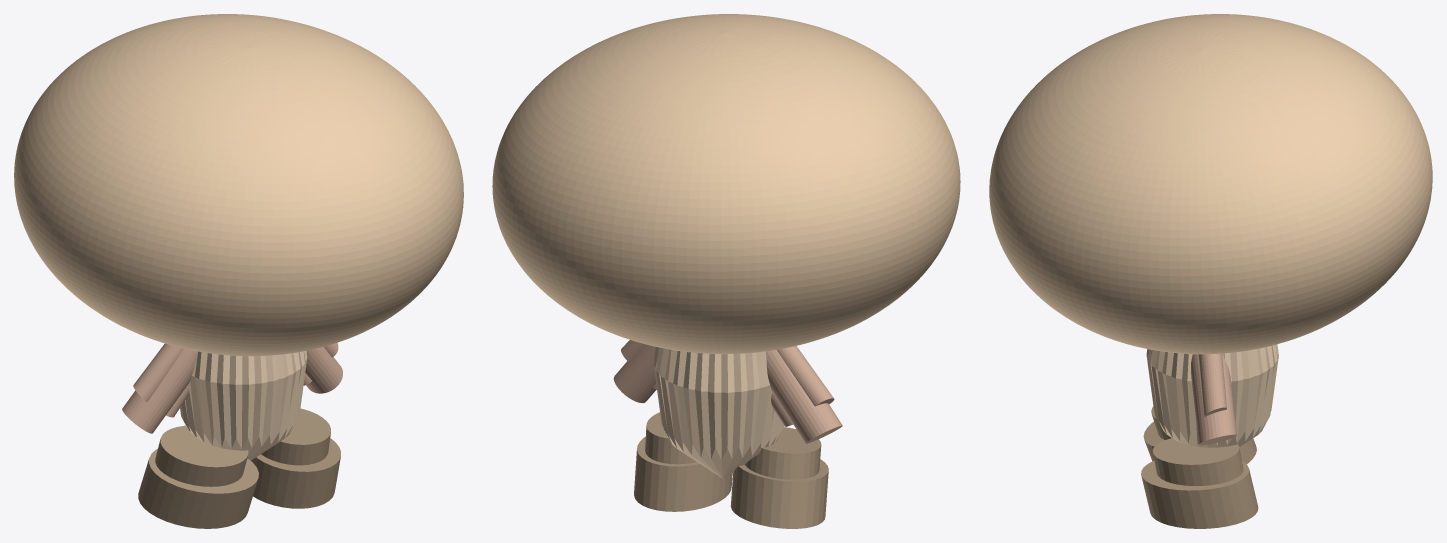
Rendered from newmi.glb.
3 views of the same model, side by side, from view 1: azimuth 30°, elevation 25°; view 2: azimuth 150°, elevation 25°; view 3: azimuth 270°, elevation 25° (orthographic). The views are drawn at different scales.
Visible parts, largest first — view 1: Mycocurator_Head.001, Mycocurator_Stem.001, Mycocurator_Foot_Left.001, Mycocurator_Foot_Right.001, Mycocurator_Hand_Left.001, Mycocurator_Foot_Left, Mycocurator_Hand_Left, Mycocurator_Hand_Right.001; view 2: Mycocurator_Head.001, Mycocurator_Stem.001, Mycocurator_Foot_Left.001, Mycocurator_Foot_Right.001, Mycocurator_Hand_Left.001, Mycocurator_Foot_Left, Mycocurator_Hand_Left, Mycocurator_Hand_Right.001; view 3: Mycocurator_Head.001, Mycocurator_Foot_Right.001, Mycocurator_Stem.001, Mycocurator_Hand_Right.001, Mycocurator_Foot_Left.001.
Part boxes in pixels (x1,y1,x2,y2): Mycocurator_Head.001: (14, 14, 463, 356); Mycocurator_Stem.001: (180, 351, 307, 460); Mycocurator_Foot_Left.001: (138, 425, 258, 528); Mycocurator_Foot_Right.001: (251, 408, 340, 508); Mycocurator_Hand_Left.001: (122, 343, 197, 433); Mycocurator_Foot_Left: (149, 426, 258, 527); Mycocurator_Hand_Left: (122, 350, 196, 433); Mycocurator_Hand_Right.001: (303, 343, 342, 393); Mycocurator_Head.001: (492, 14, 960, 354); Mycocurator_Stem.001: (653, 347, 784, 478); Mycocurator_Foot_Left.001: (730, 427, 828, 528); Mycocurator_Foot_Right.001: (634, 412, 732, 511); Mycocurator_Hand_Left.001: (766, 346, 841, 443); Mycocurator_Foot_Left: (732, 427, 828, 528); Mycocurator_Hand_Left: (766, 346, 842, 443); Mycocurator_Hand_Right.001: (613, 340, 656, 403); Mycocurator_Head.001: (989, 14, 1432, 354); Mycocurator_Foot_Right.001: (1141, 438, 1258, 528); Mycocurator_Stem.001: (1146, 344, 1278, 447); Mycocurator_Hand_Right.001: (1191, 353, 1236, 445); Mycocurator_Foot_Left.001: (1143, 406, 1256, 464).
Bounding box in the file's own units: 0.367 × 0.4069 × 0.3669.
